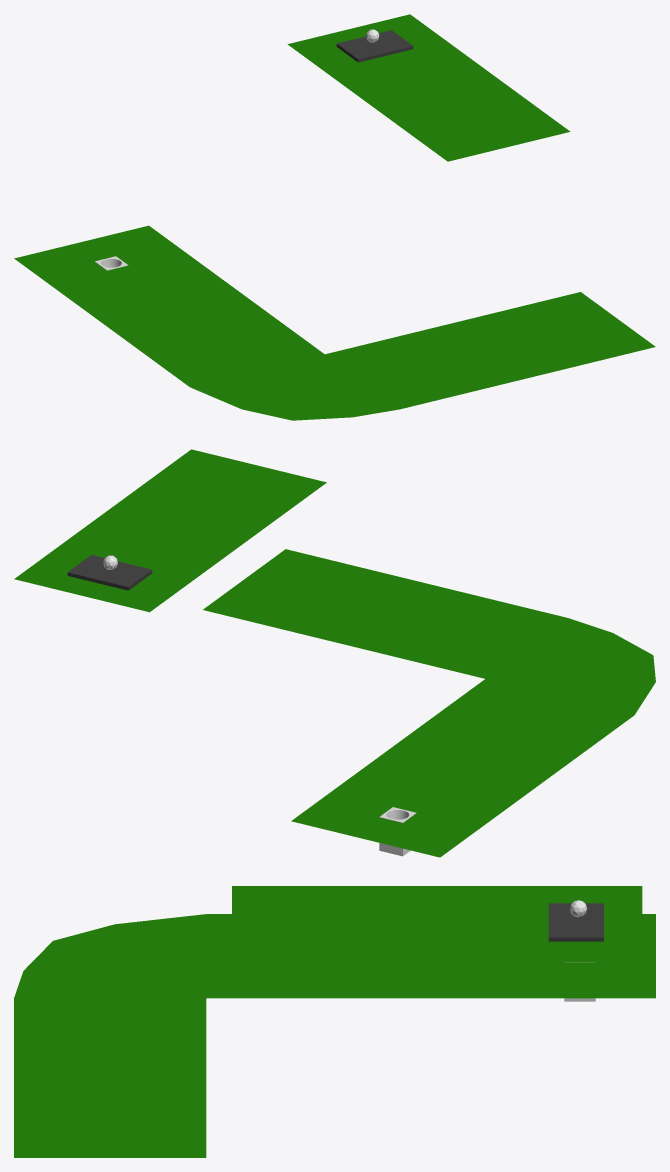
Rendered from boilerplate_level_4.glb.
3 renders of one model, top to bottom at view 1: azimuth 30°, elevation 25°; view 2: azimuth 150°, elevation 25°; view 3: azimuth 270°, elevation 25°, orthographic. The views are drawn at different scales.
Parts seen in each view (by area): view 1: Plane, Start; view 2: Plane, Start, Cup; view 3: Plane, Start.
Boxes of the visible parts, <box> form: Plane: <box>14,14,655,420</box>; Start: <box>336,30,413,62</box>; Plane: <box>14,449,655,857</box>; Start: <box>67,555,152,590</box>; Cup: <box>379,807,416,856</box>; Plane: <box>14,886,655,1157</box>; Start: <box>548,903,603,941</box>.
Size of the model in its own units: 55.9 by 27.45 by 62.2.
